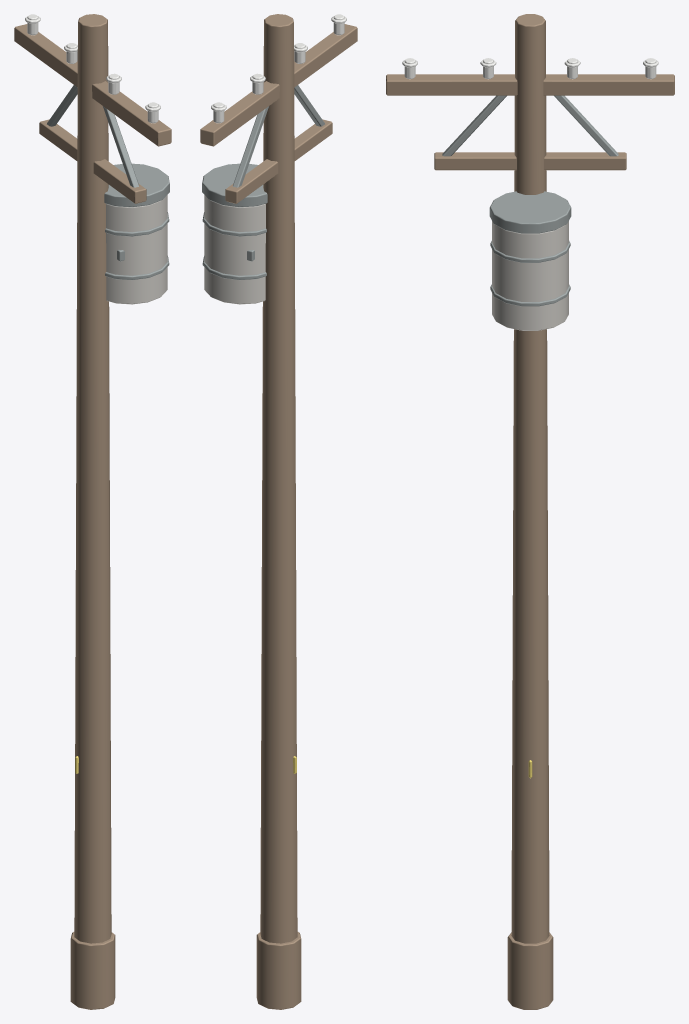
File: power_pole_transformer.glb
3 views of the same model, side by side, from view 1: azimuth 30°, elevation 25°; view 2: azimuth 150°, elevation 25°; view 3: azimuth 270°, elevation 25° (orthographic).
Visible parts, largest first — view 1: pole; view 2: pole; view 3: pole.
Part boxes in pixels (box(x1,y1,x2,y2)): pole: box(14, 14, 171, 1009); pole: box(200, 14, 357, 1009); pole: box(386, 14, 674, 1009).
Bounding box in the file's own units: 0.8622 × 9 × 2.4.
